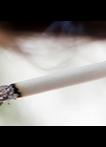Cigarette: (0, 55, 106, 106)
